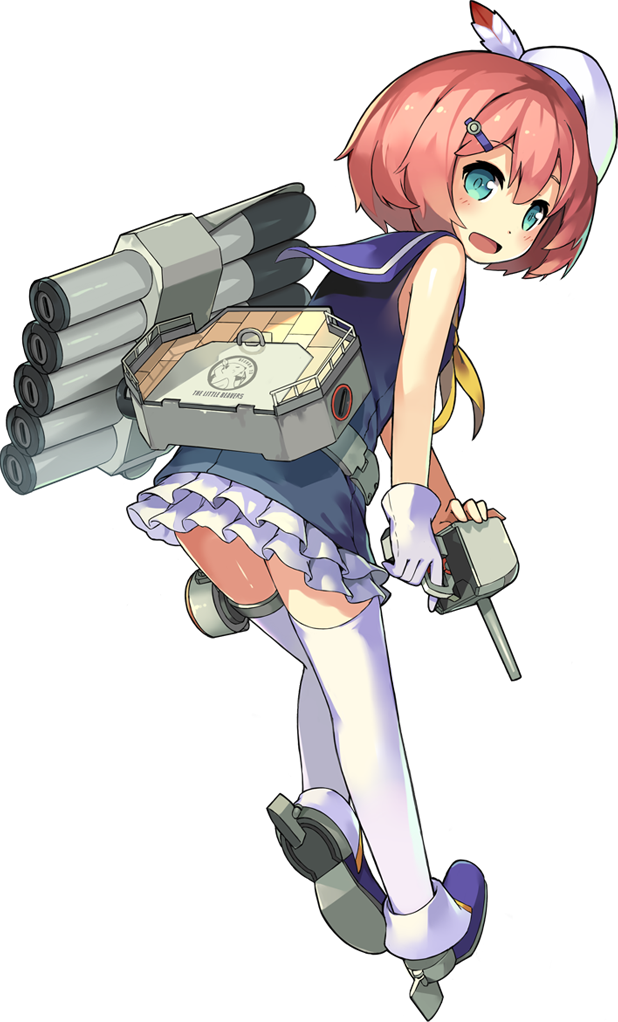person: (164, 1, 603, 894)
